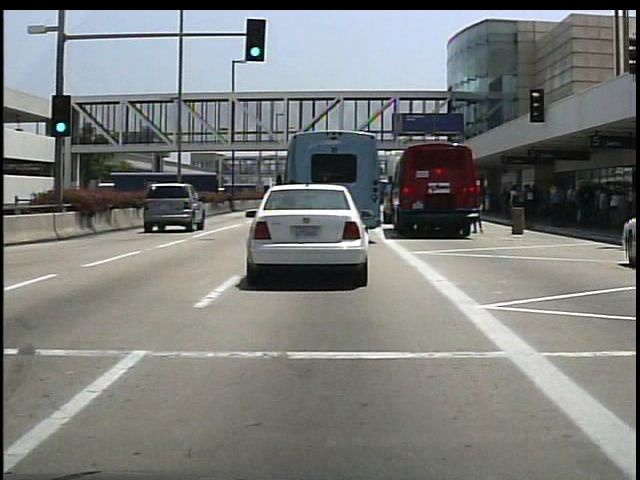person: (472, 184, 485, 237)
